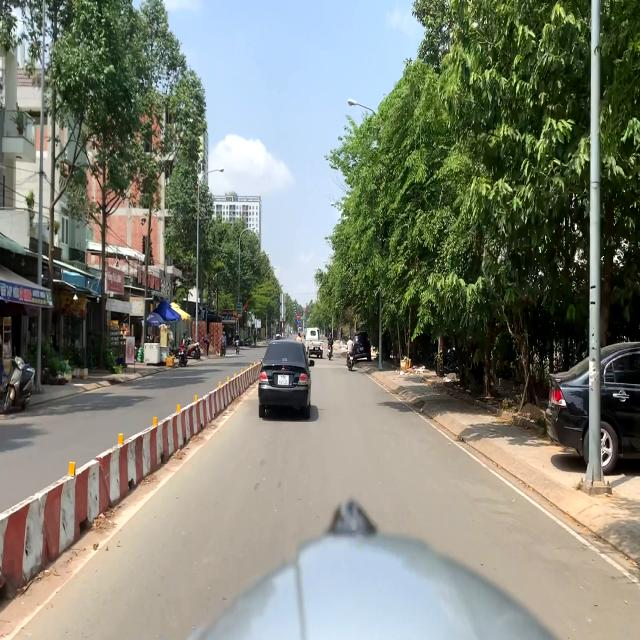P.102: (297, 314, 300, 320)
R.302a: (296, 320, 300, 324)
